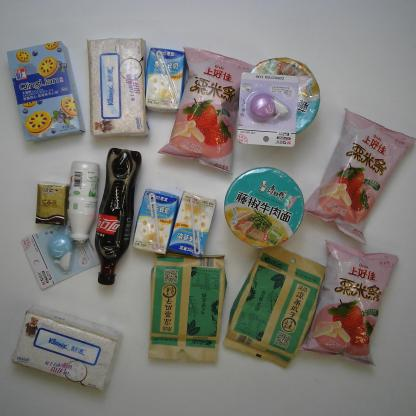Dessert: (7, 40, 86, 143)
Dried Food: (223, 244, 326, 369), (147, 252, 228, 362)
Drink: (94, 147, 143, 286)
Instant Noodles: (223, 166, 306, 250), (249, 57, 321, 134)
Milk: (168, 191, 216, 258), (132, 188, 180, 255), (143, 47, 187, 113), (66, 161, 100, 244)
Puffed Food: (303, 107, 416, 246), (298, 238, 400, 367), (157, 47, 256, 174)
Stationery: (21, 220, 103, 290), (237, 72, 299, 147)
Tissue: (9, 304, 122, 392), (86, 38, 150, 138), (35, 180, 70, 225)
